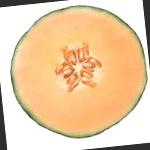Melon Ripe: (4, 0, 150, 145)
